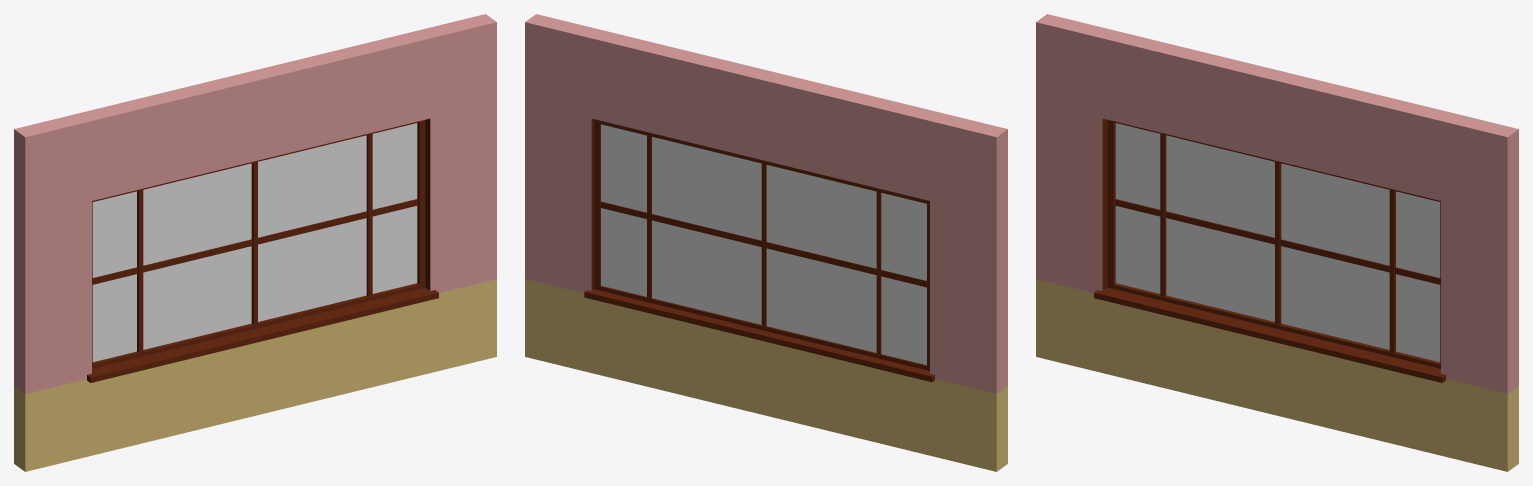
File: window4.fbx
3 renders of one model, left to right at view 1: azimuth 30°, elevation 25°; view 2: azimuth 150°, elevation 25°; view 3: azimuth 330°, elevation 25°, orthographic.
Visible parts, largest first — view 1: wall_window2.004, glass2.003; view 2: wall_window2.004, glass2.003; view 3: wall_window2.004, glass2.003.
Part boxes in pixels (x1,y1,x2,y2): wall_window2.004: (14,14,496,471); glass2.003: (92,123,417,362); wall_window2.004: (525,14,1007,471); glass2.003: (601,124,926,364); wall_window2.004: (1036,14,1518,471); glass2.003: (1115,123,1440,362).
Size of the model in its own units: 411 by 279 by 26.33.
